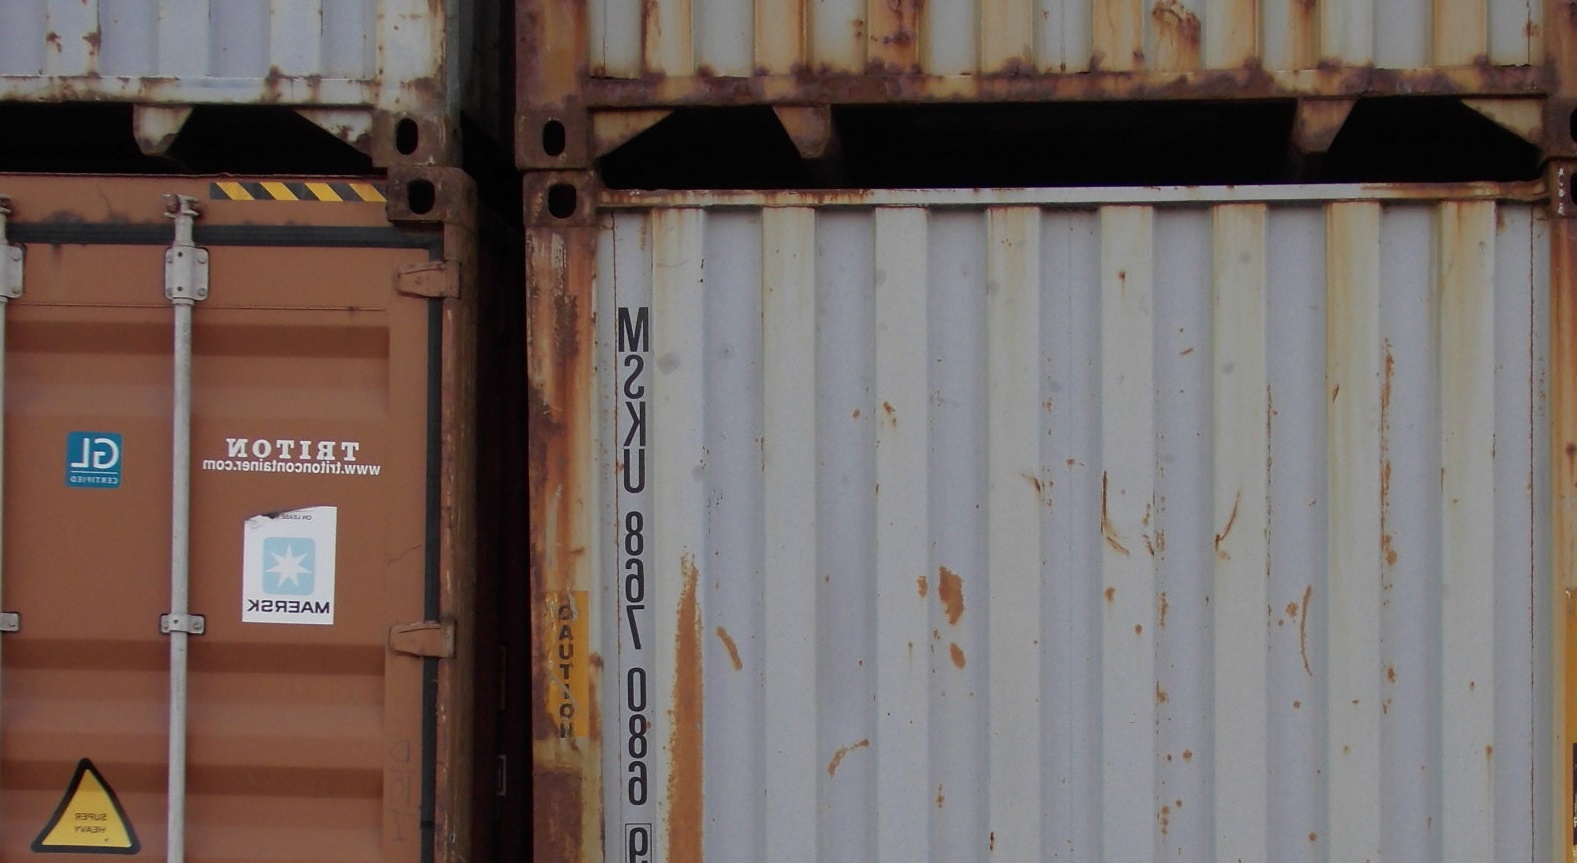container_door: (6, 170, 460, 851)
container_no_door: (514, 173, 1573, 854)
